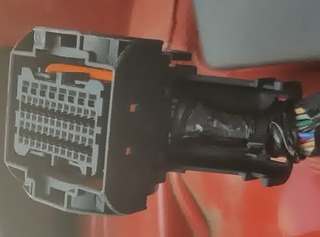connector: (4, 25, 182, 215)
